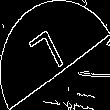L_SE: (33, 25, 77, 85)
